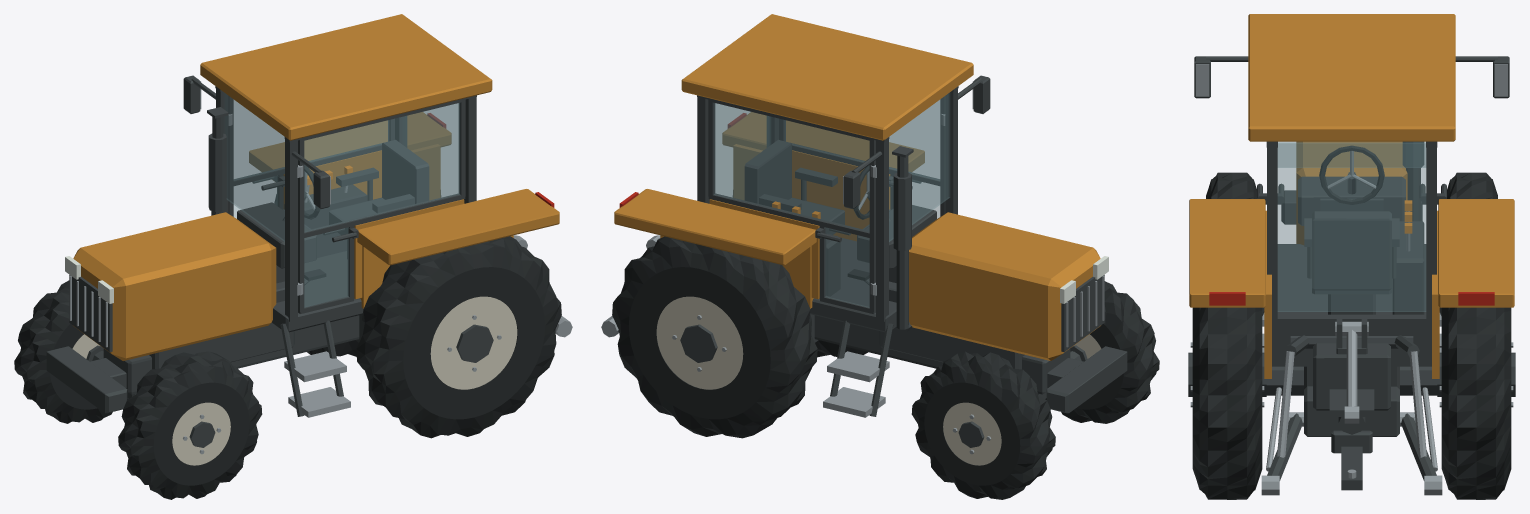
3 views of the same model, side by side, from view 1: azimuth 30°, elevation 25°; view 2: azimuth 150°, elevation 25°; view 3: azimuth 270°, elevation 25° (orthographic). The views are drawn at different scales.
Parts seen in each view (by area): view 1: Rear_L_tire, Roof, Hood, Door_glass_upper-1, Front_L_tire, Fender-1, Windshield, Front_R_tire, Rear_L_rim, Door_glass_upper1, Fender1, Rear_glass (+28 smaller); view 2: Rear_R_tire, Roof, Hood, Door_glass_upper1, Front_R_tire, Fender1, Front_L_tire, Rear_R_rim, Windshield, Door_glass_upper-1, Rear_glass, Fender-1 (+30 smaller); view 3: Roof, Rear_glass, Rear_L_tire, Rear_R_tire, Fender-1, Fender1, Seat_back, Cab_floor, Rear_hydraulic_housing, Hood, Windshield, Rear_bulkhead (+35 smaller).
Part boxes in pixels (x1,y1,x2,y2): Rear_L_tire: [356, 236, 561, 438]; Roof: [200, 14, 492, 140]; Hood: [73, 212, 276, 360]; Door_glass_upper-1: [304, 103, 459, 232]; Front_L_tire: [118, 351, 262, 499]; Fender-1: [357, 189, 559, 265]; Windshield: [224, 93, 284, 241]; Front_R_tire: [14, 280, 128, 423]; Rear_L_rim: [430, 296, 517, 389]; Door_glass_upper1: [234, 100, 388, 180]; Fender1: [249, 112, 451, 180]; Rear_glass: [404, 103, 458, 199]; Rear_R_tire: [612, 236, 817, 438]; Roof: [681, 14, 973, 140]; Hood: [909, 212, 1100, 360]; Door_glass_upper1: [714, 103, 869, 231]; Front_R_tire: [911, 351, 1055, 499]; Fender1: [614, 189, 816, 265]; Front_L_tire: [1045, 281, 1159, 423]; Rear_R_rim: [656, 296, 743, 389]; Windshield: [889, 93, 949, 241]; Door_glass_upper-1: [785, 100, 939, 180]; Rear_glass: [715, 103, 769, 199]; Fender-1: [722, 112, 924, 171]; Roof: [1248, 14, 1455, 141]; Rear_glass: [1278, 143, 1425, 311]; Rear_L_tire: [1192, 307, 1262, 499]; Rear_R_tire: [1441, 307, 1511, 499]; Fender-1: [1189, 199, 1265, 307]; Fender1: [1438, 199, 1514, 307]; Seat_back: [1312, 211, 1391, 290]; Cab_floor: [1272, 244, 1431, 366]; Rear_hydraulic_housing: [1313, 343, 1390, 410]; Hood: [1296, 141, 1407, 244]; Windshield: [1278, 142, 1425, 167]; Rear_bulkhead: [1277, 314, 1426, 353].
Bounding box in the file's own units: 3.69 × 2.56 × 1.97.
